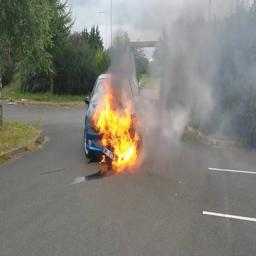fire: (93, 79, 137, 174)
